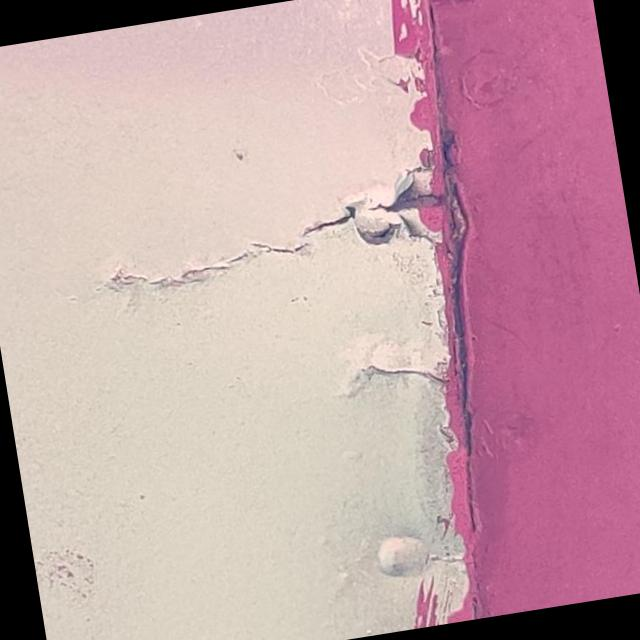Crack: (104, 150, 443, 290), (344, 324, 451, 396)
